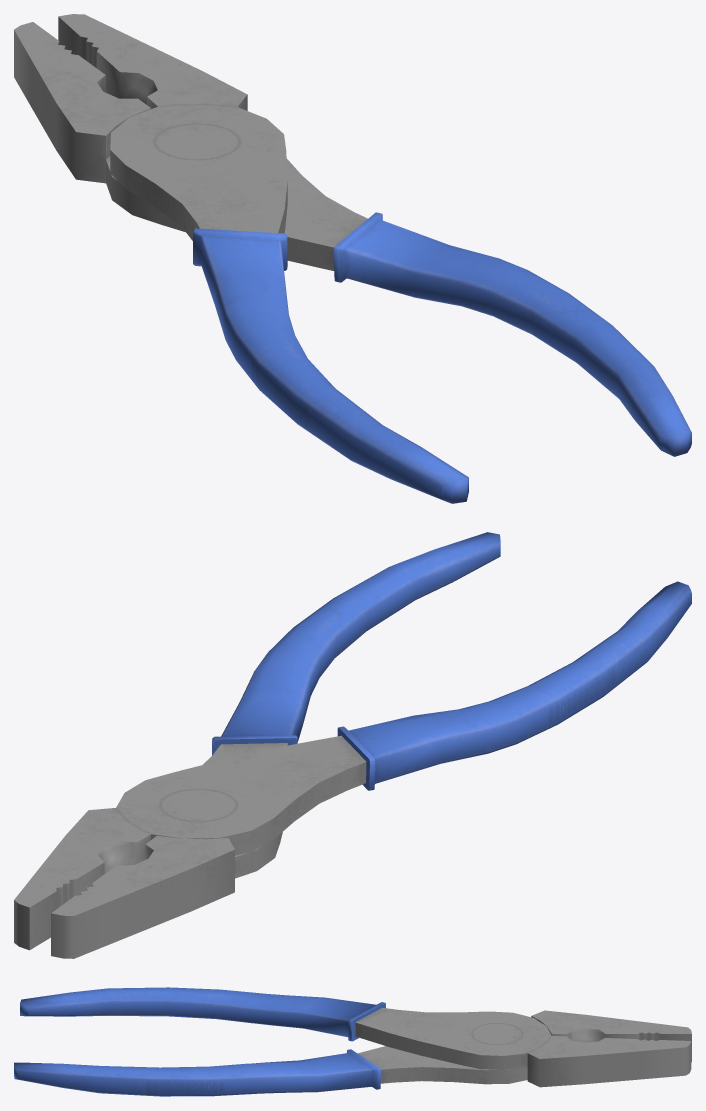
File: pliers.fbx
3 renders of one model, top to bottom at view 1: azimuth 30°, elevation 25°; view 2: azimuth 150°, elevation 25°; view 3: azimuth 270°, elevation 25°, orthographic. The views are drawn at different scales.
Visible parts, largest first — view 1: pliers_Tools_0; view 2: pliers_Tools_0; view 3: pliers_Tools_0.
Part boxes in pixels (x1=…): pliers_Tools_0: x1=14, y1=14, x2=691, y2=503; pliers_Tools_0: x1=14, y1=532, x2=691, y2=958; pliers_Tools_0: x1=14, y1=987, x2=691, y2=1096.
Bounding box in the file's own units: 740 × 134 × 2348.
1 material, 1 textured.
